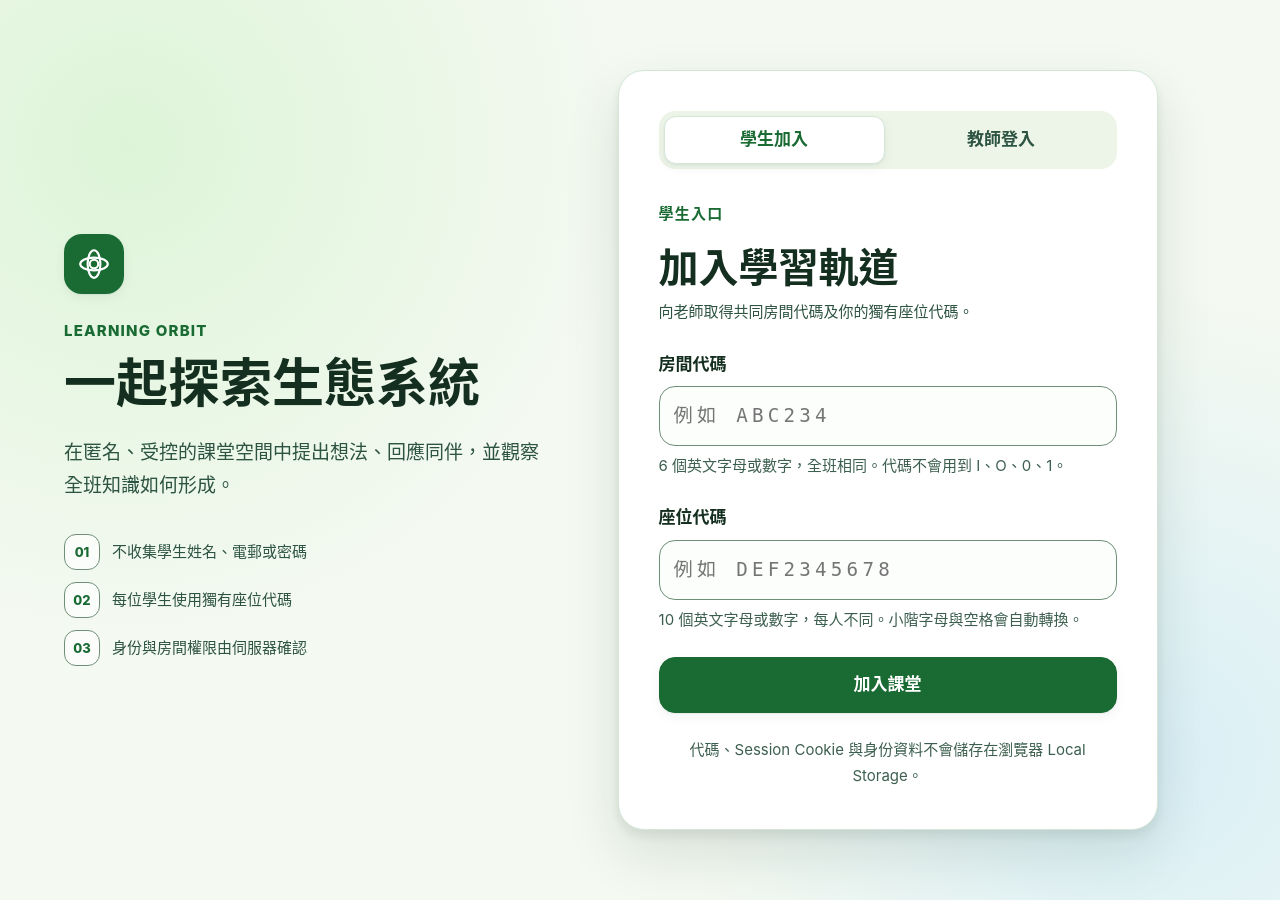
Test: unified login page › refuses an ambiguous paste rather than submitting one of the candidates
Expected: the heading "加入學習軌道" is shown, 659,243 -> 899,292
Click the field labelled "房間代碼": (888,416) 659,386 -> 1117,446
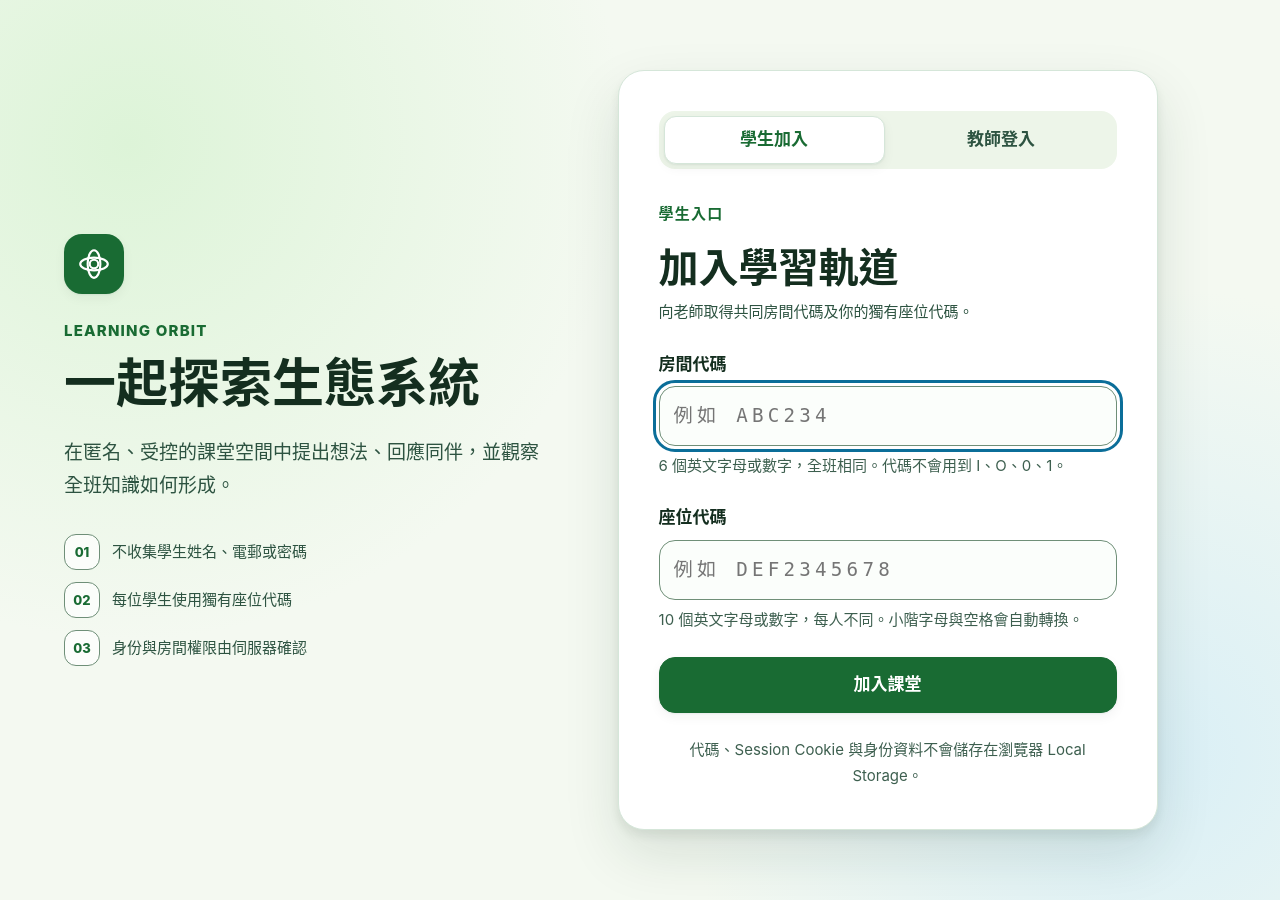
Type keys "ABC234 XYZ789"
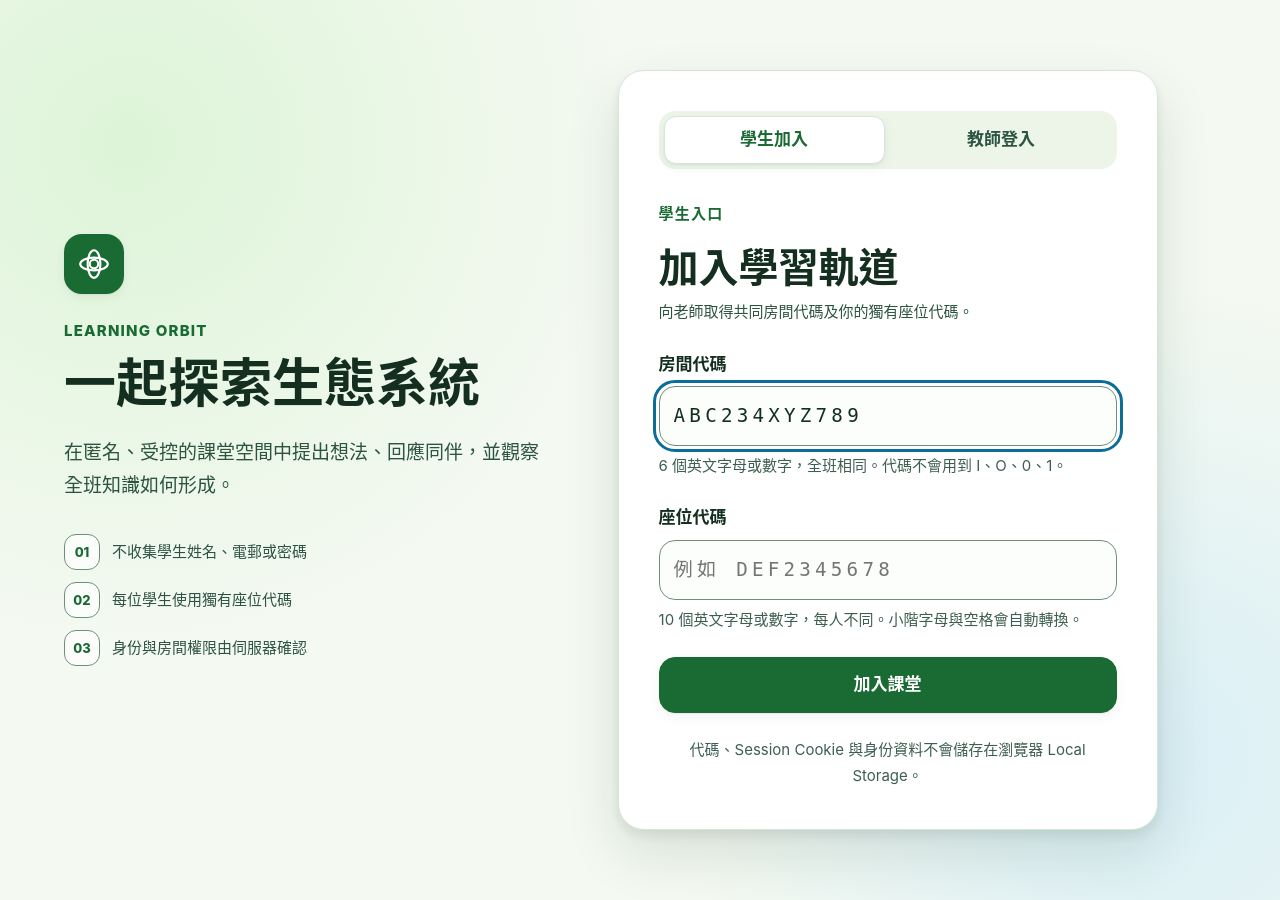
In the field labelled "座位代碼": (888,570) 659,540 -> 1117,600, type "DEF2345678"
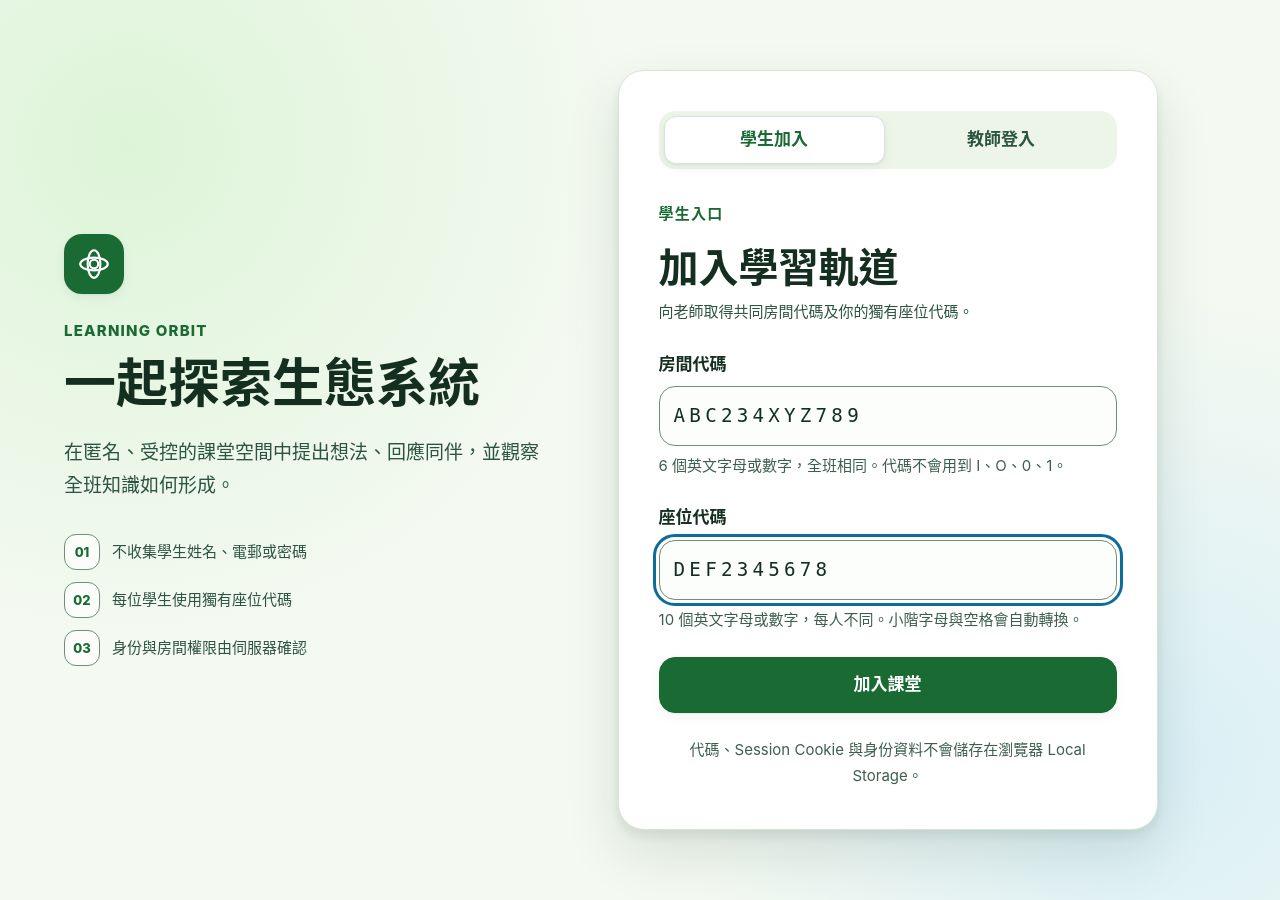
Click the button "加入課堂": (888,685) 659,657 -> 1117,713
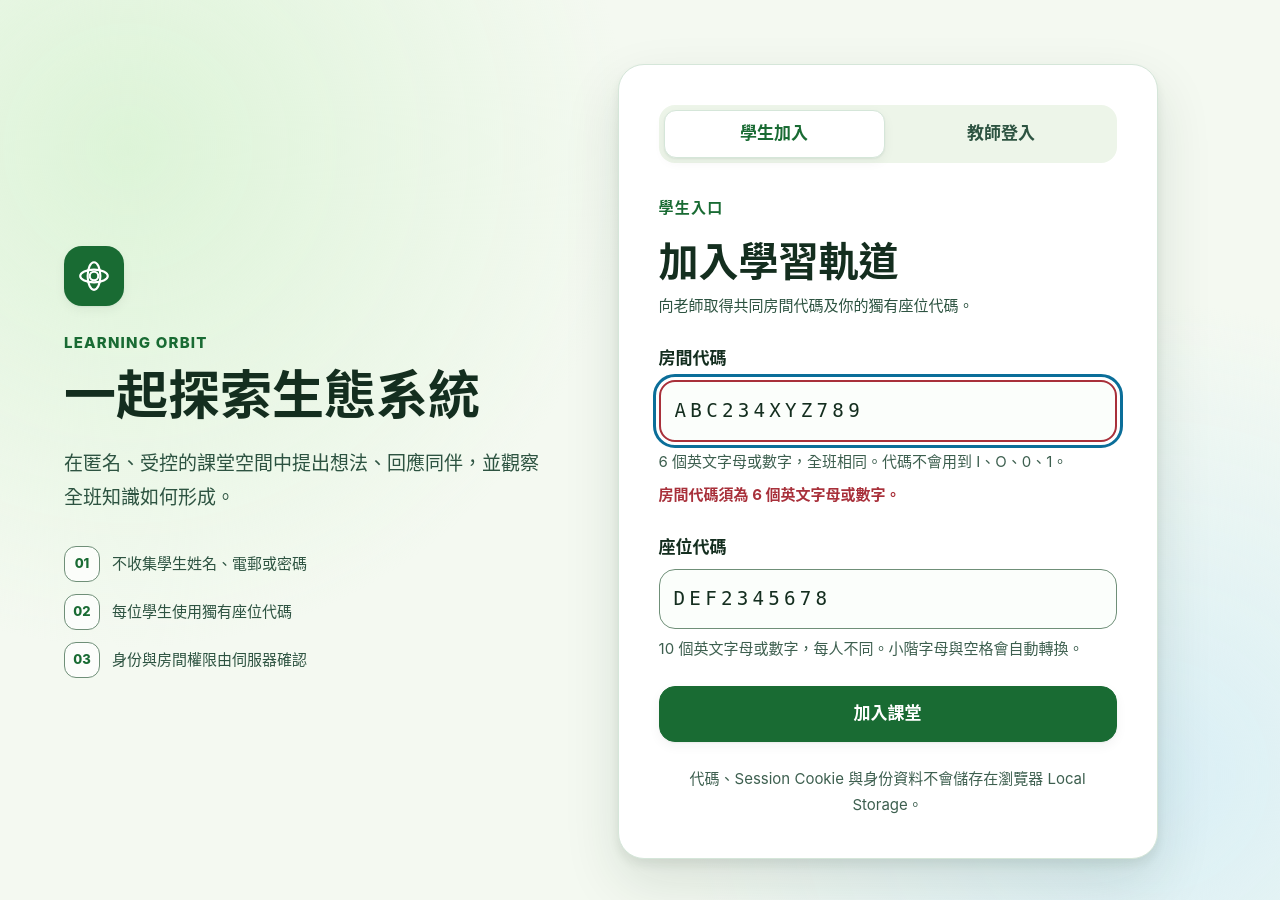
Result: the text "房間代碼須為 6 個英文字母或數字。" is shown at 659,485 -> 900,504
